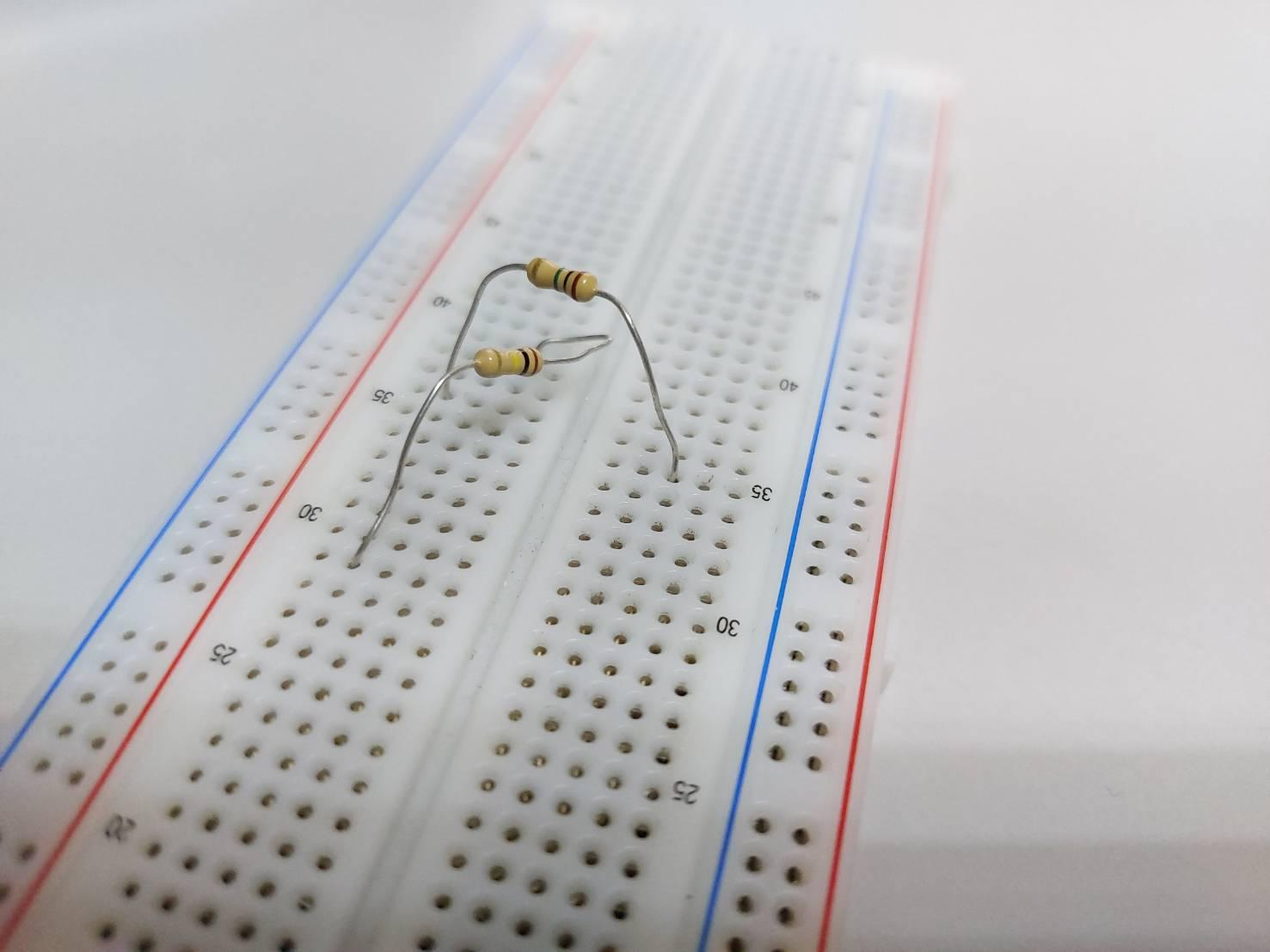resistor: (525, 254, 601, 301), (474, 347, 542, 378)
